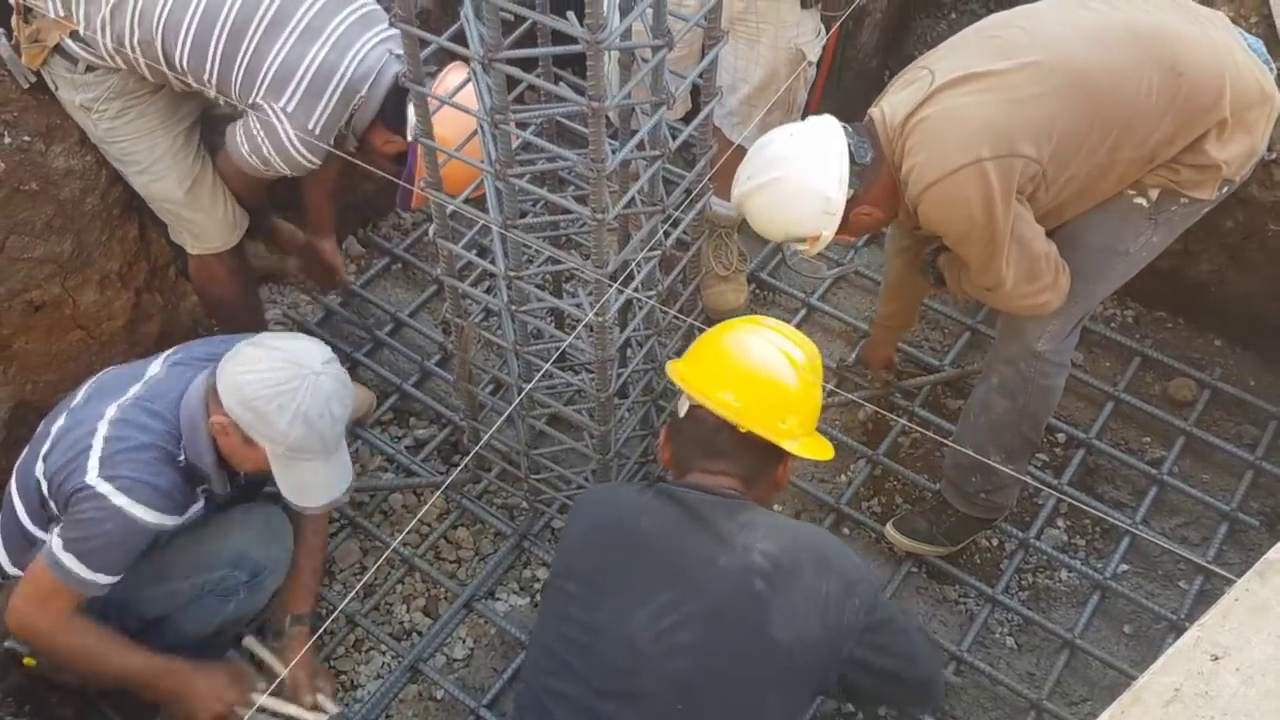helmet: (651, 310, 846, 468), (734, 112, 862, 254), (399, 53, 510, 191)
helmet-off: (195, 330, 362, 515)
helmet-on: (653, 311, 837, 513), (738, 98, 916, 261), (352, 46, 517, 221)
person: (734, 0, 1280, 561), (525, 318, 945, 720), (0, 0, 515, 323), (0, 333, 368, 719), (602, 2, 826, 299)
